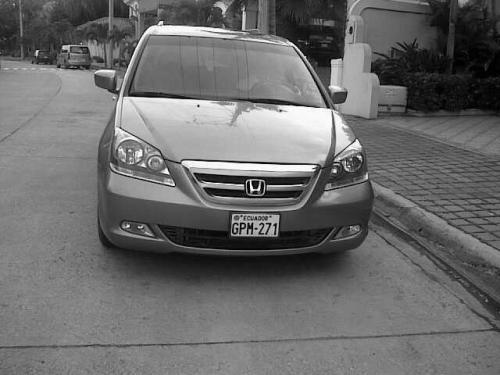car: (93, 20, 374, 260)
